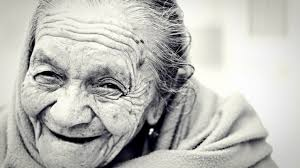No-Glasses: (21, 53, 138, 103)
